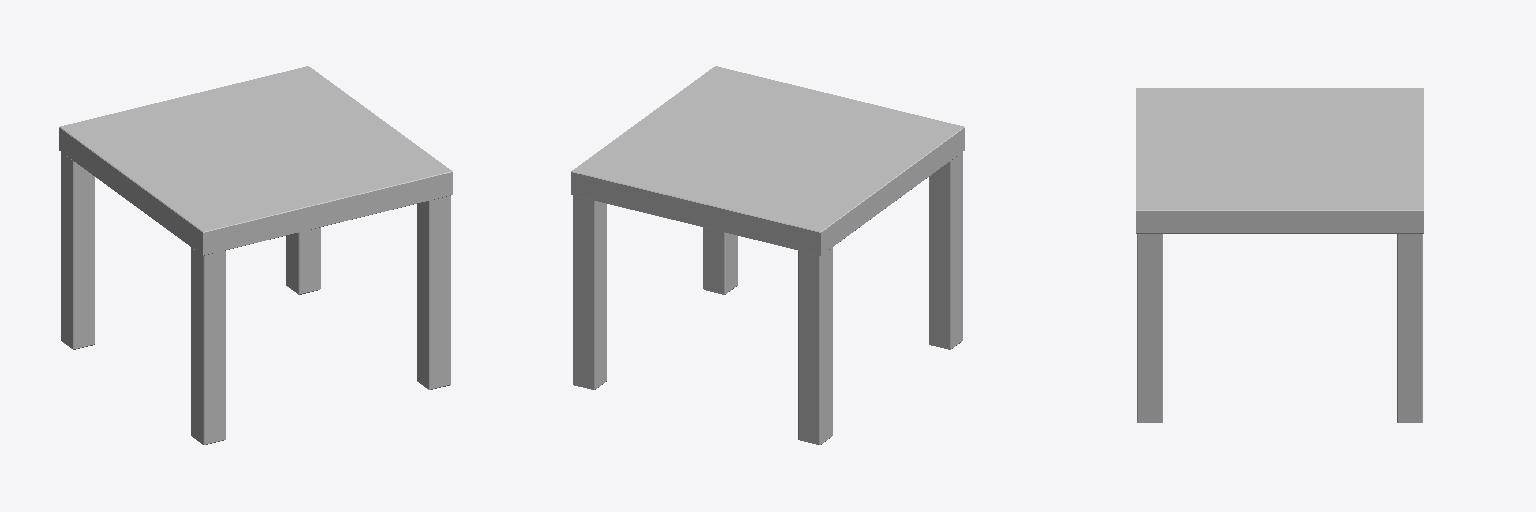
File: Table_Carre.obj
3 renders of one model, left to right at view 1: azimuth 30°, elevation 25°; view 2: azimuth 150°, elevation 25°; view 3: azimuth 270°, elevation 25°, orthographic.
Visible parts, largest first — view 1: Table_Carre; view 2: Table_Carre; view 3: Table_Carre.
Part boxes in pixels (x1,y1,x2,y2): Table_Carre: (59,66,452,444); Table_Carre: (571,66,964,444); Table_Carre: (1136,88,1423,422).
Bounding box in the file's own units: 55 × 45 × 55.